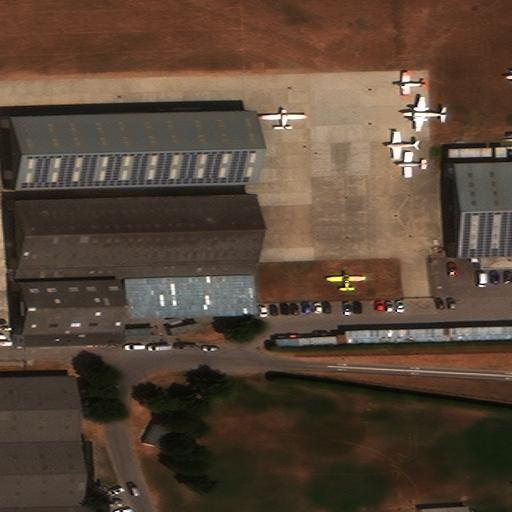Small Civil Transport: (401, 97, 447, 132), (386, 131, 420, 159), (260, 108, 303, 129), (395, 152, 427, 178), (325, 271, 365, 291), (394, 71, 425, 95)
